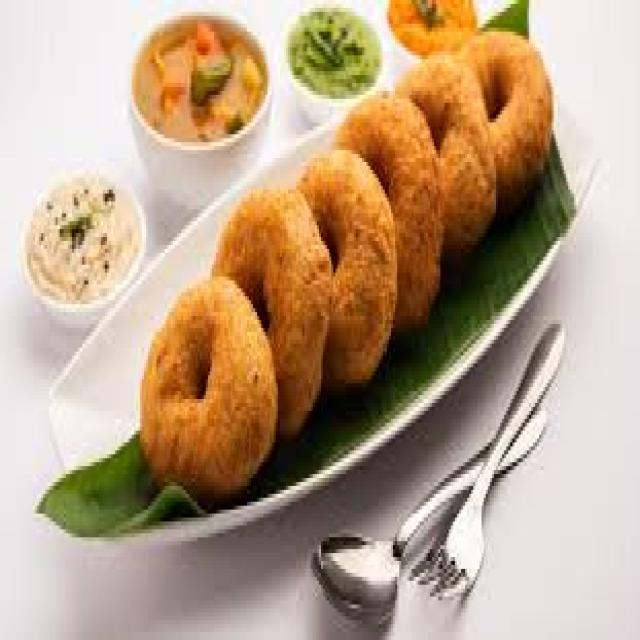MEDU VADA: (140, 277, 276, 490), (212, 190, 331, 431), (335, 95, 442, 324), (298, 150, 395, 383), (399, 55, 494, 249), (459, 32, 552, 209)
